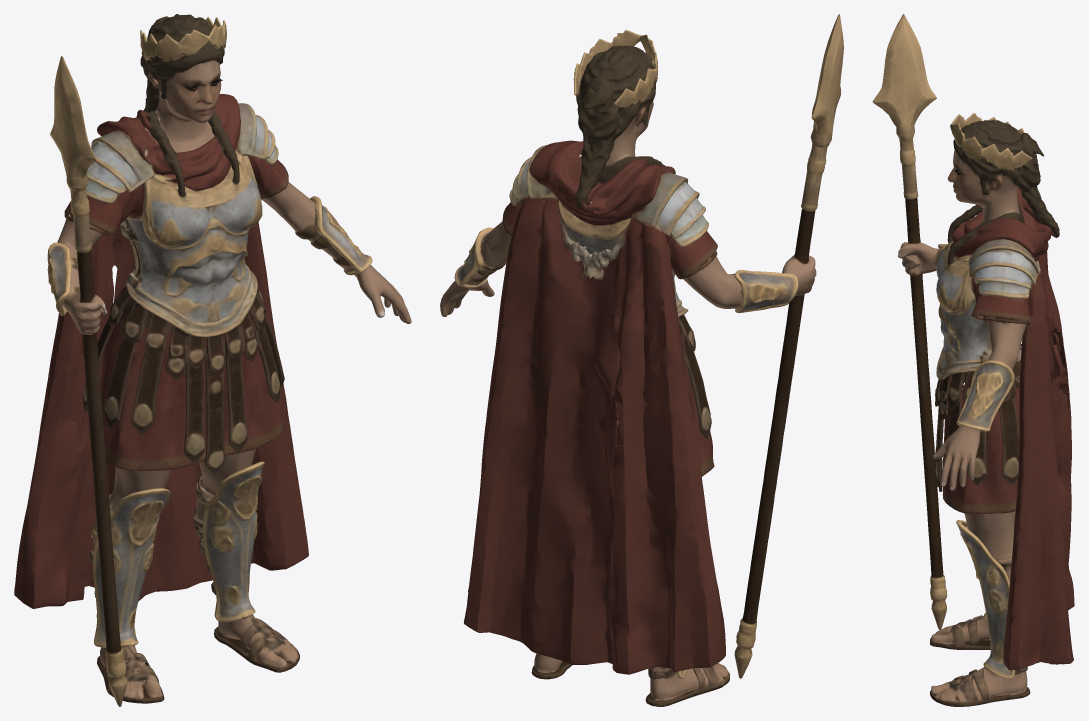
File: light_queen.glb
3 renders of one model, left to right at view 1: azimuth 30°, elevation 25°; view 2: azimuth 150°, elevation 25°; view 3: azimuth 270°, elevation 25°, orthographic. The views are drawn at different scales.
Visible parts, largest first — view 1: geom0; view 2: geom0; view 3: geom0.
Boxes of the visible parts, x1,y1,x2,y2 form: geom0: [14, 14, 411, 706]; geom0: [440, 14, 843, 706]; geom0: [872, 14, 1074, 706].
Size of the model in its own units: 0.5757 by 1 by 0.3146.
1 material, 1 textured.
